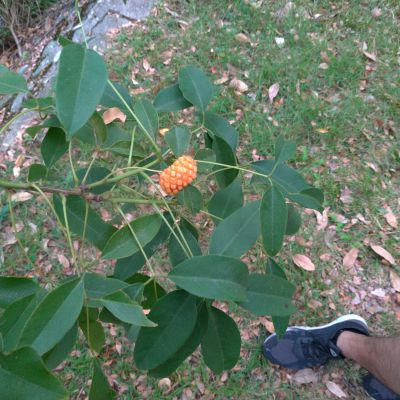eggs: (153, 149, 202, 197)
